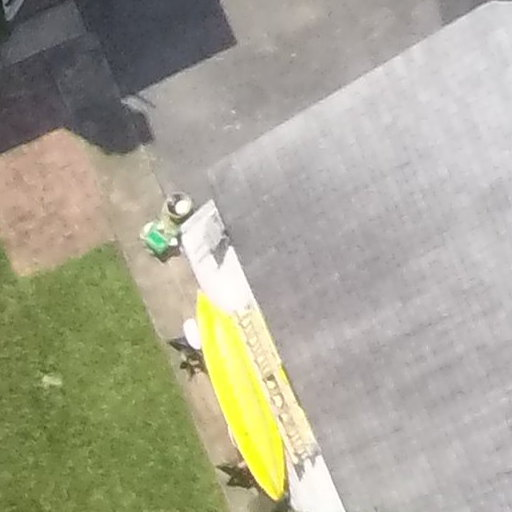container: (160, 188, 196, 224)
kayak: (185, 285, 310, 509)
toy: (180, 283, 310, 507)
